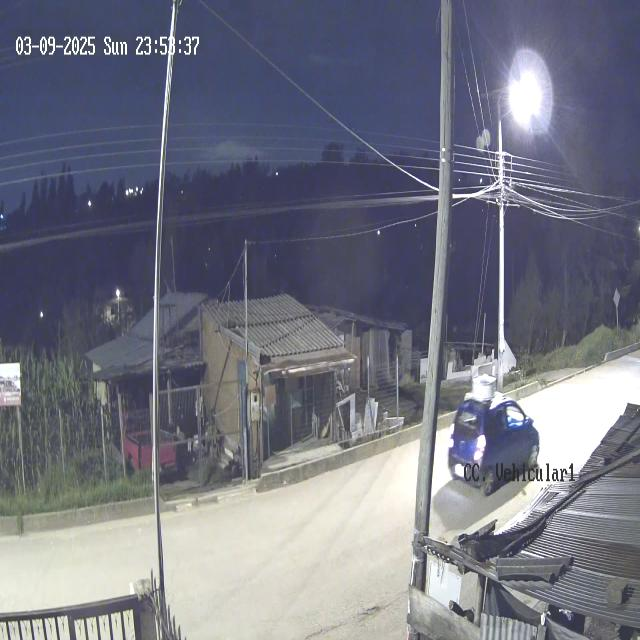SED: (446, 392, 541, 496)
